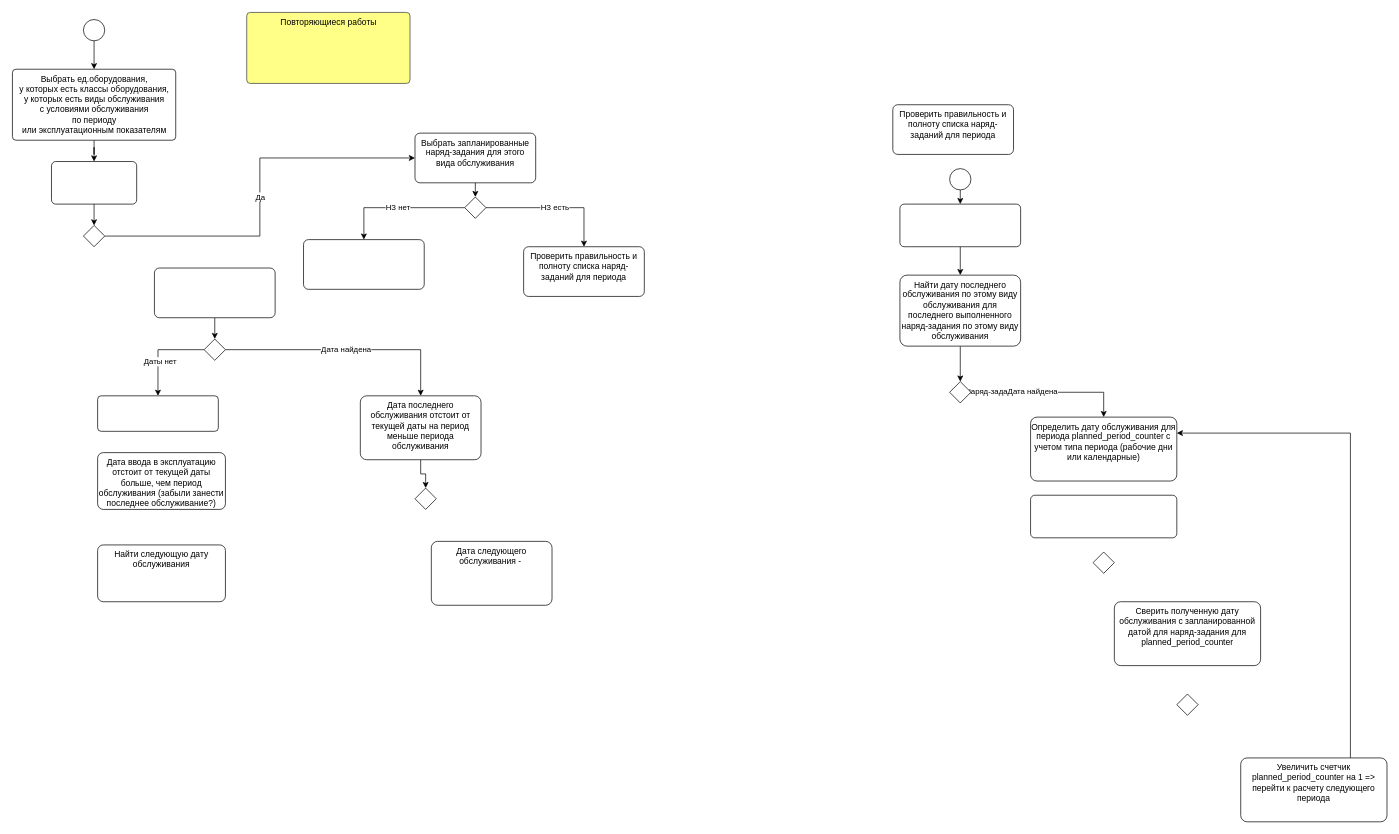
Image size: 1399x834. Some labels were removed from this diagram. The centre of each missing label's shape, as x and y in pixels:
Взять из списка наряд-заданий наряд-задание для периода planned_period_counter: [1103,516]
Найти дату ввода в эксплуатацию.: [157,413]
Найти дату последнего обслуживания по этому виду обслуживания: [214,292]
Сформировать список наряд-заданий для периода: [363,264]
Условие обслуживания на основе периода: [94,182]
Установить счетчик наряд-заданий/периодов в 0 planned_period_counter = 0: [960,225]
